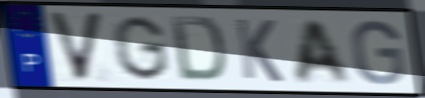A: (293, 18, 354, 85)
D: (168, 14, 228, 85)
G: (110, 14, 172, 82), (349, 18, 407, 87)
K: (233, 16, 286, 85)
V: (45, 10, 106, 84)
